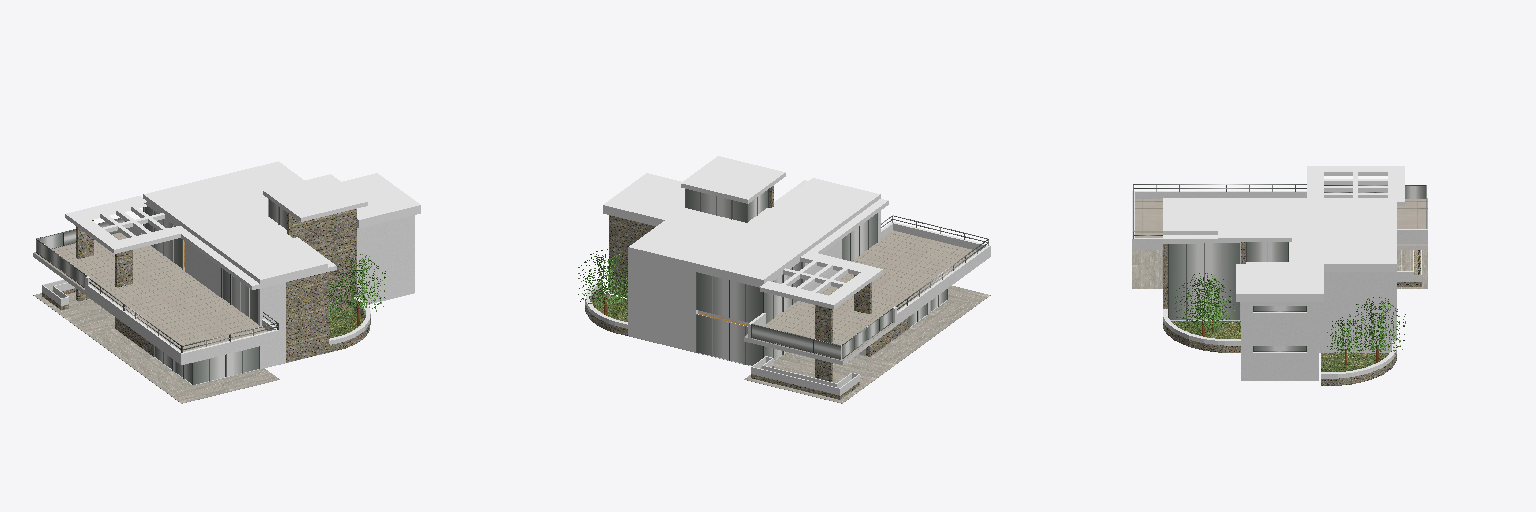
3 views of the same model, side by side, from view 1: azimuth 30°, elevation 25°; view 2: azimuth 150°, elevation 25°; view 3: azimuth 270°, elevation 25° (orthographic).
Parts seen in each view (by area): view 1: copertura, parete_interna, pavimento_terrazza, RIVESTIMENTO, pavimento_esterno, vetro, pergola, cromato, pilastri, pannello_par, foglie, prato; view 2: copertura, vetro, pavimento_terrazza, parete_interna, pavimento_esterno, pergola, RIVESTIMENTO, cromato, pannello_par, pilastri, foglie; view 3: copertura, parete_interna, vetro, pergola, foglie, pavimento_terrazza, pavimento_esterno, RIVESTIMENTO, prato, cromato.
Boxes of the visible parts, box(x1,y1,x2,y2) form: copertura: box(143, 161, 420, 289); parete_interna: box(33, 215, 414, 371); pavimento_terrazza: box(34, 233, 267, 351); RIVESTIMENTO: box(42, 209, 370, 362); pavimento_esterno: box(33, 292, 279, 403); vetro: box(145, 199, 286, 384); pergola: box(65, 196, 187, 253); cromato: box(36, 199, 279, 384); pilastri: box(76, 220, 132, 301); pannello_par: box(37, 219, 124, 286); foglie: box(329, 254, 385, 320); prato: box(329, 309, 368, 351); copertura: box(603, 156, 888, 352); vetro: box(686, 189, 946, 365); pavimento_terrazza: box(745, 230, 978, 360); parete_interna: box(585, 211, 990, 395); pavimento_esterno: box(744, 286, 990, 403); pergola: box(760, 251, 882, 308); RIVESTIMENTO: box(585, 186, 908, 399); cromato: box(685, 189, 988, 364); pannello_par: box(752, 310, 891, 358); pilastri: box(815, 275, 871, 381); foglie: box(578, 249, 627, 310); copertura: box(1163, 198, 1396, 301); parete_interna: box(1132, 191, 1427, 380); vetro: box(1169, 242, 1305, 350); pergola: box(1307, 166, 1404, 205); foglie: box(1175, 273, 1405, 357); pavimento_terrazza: box(1135, 198, 1427, 245); pavimento_esterno: box(1132, 250, 1427, 288); RIVESTIMENTO: box(1163, 242, 1421, 385); prato: box(1164, 321, 1392, 385); cromato: box(1133, 184, 1426, 351).
Bounding box in the file's own units: 22 × 8.13 × 19.
20 materials, 15 textured.